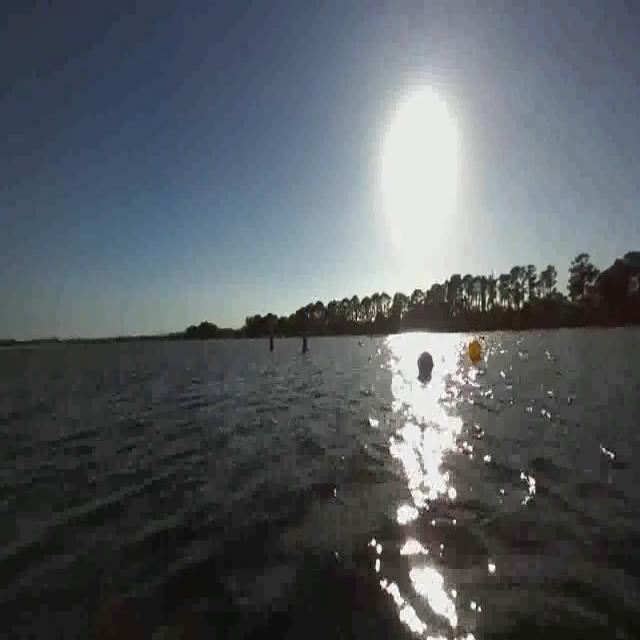blue-buoy: (418, 350, 436, 376)
green-column-buoy: (302, 321, 309, 354)
red-column-buoy: (267, 328, 273, 352)
yellow-buoy: (466, 340, 481, 361)
